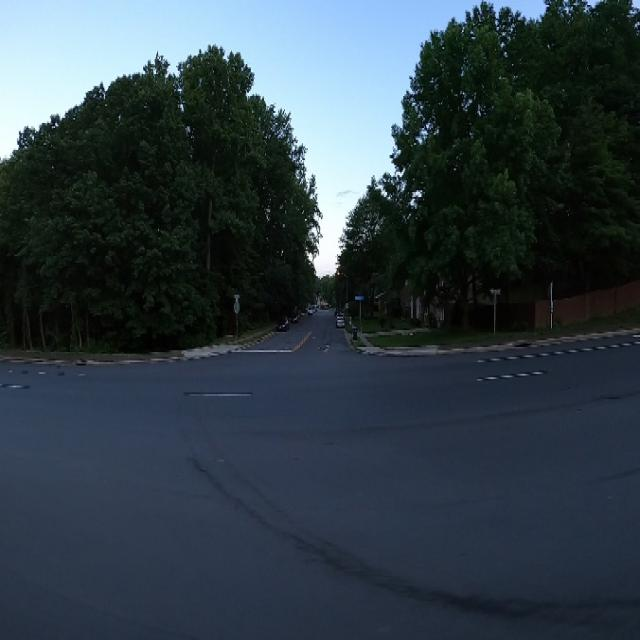cars: (276, 314, 290, 334), (289, 311, 302, 327), (337, 312, 345, 332), (306, 301, 316, 317)
